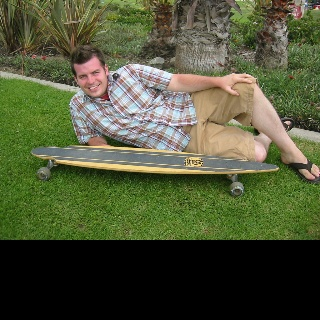without_mask: (76, 57, 106, 97)
